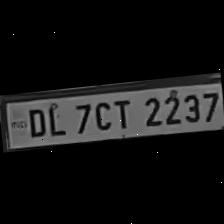2: (136, 92, 163, 128), (160, 90, 182, 126)
3: (179, 89, 201, 123)
7: (68, 100, 93, 135), (200, 87, 220, 122)
C: (88, 97, 114, 131)
D: (22, 104, 47, 138)
L: (44, 100, 68, 136)
T: (110, 94, 136, 130)
